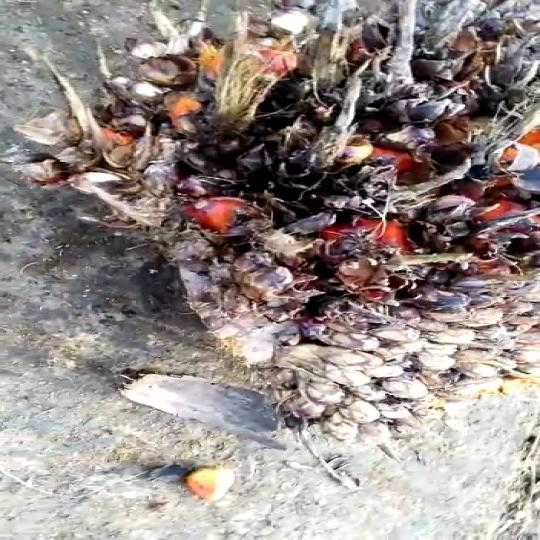terlalu masak: (41, 0, 540, 440)
